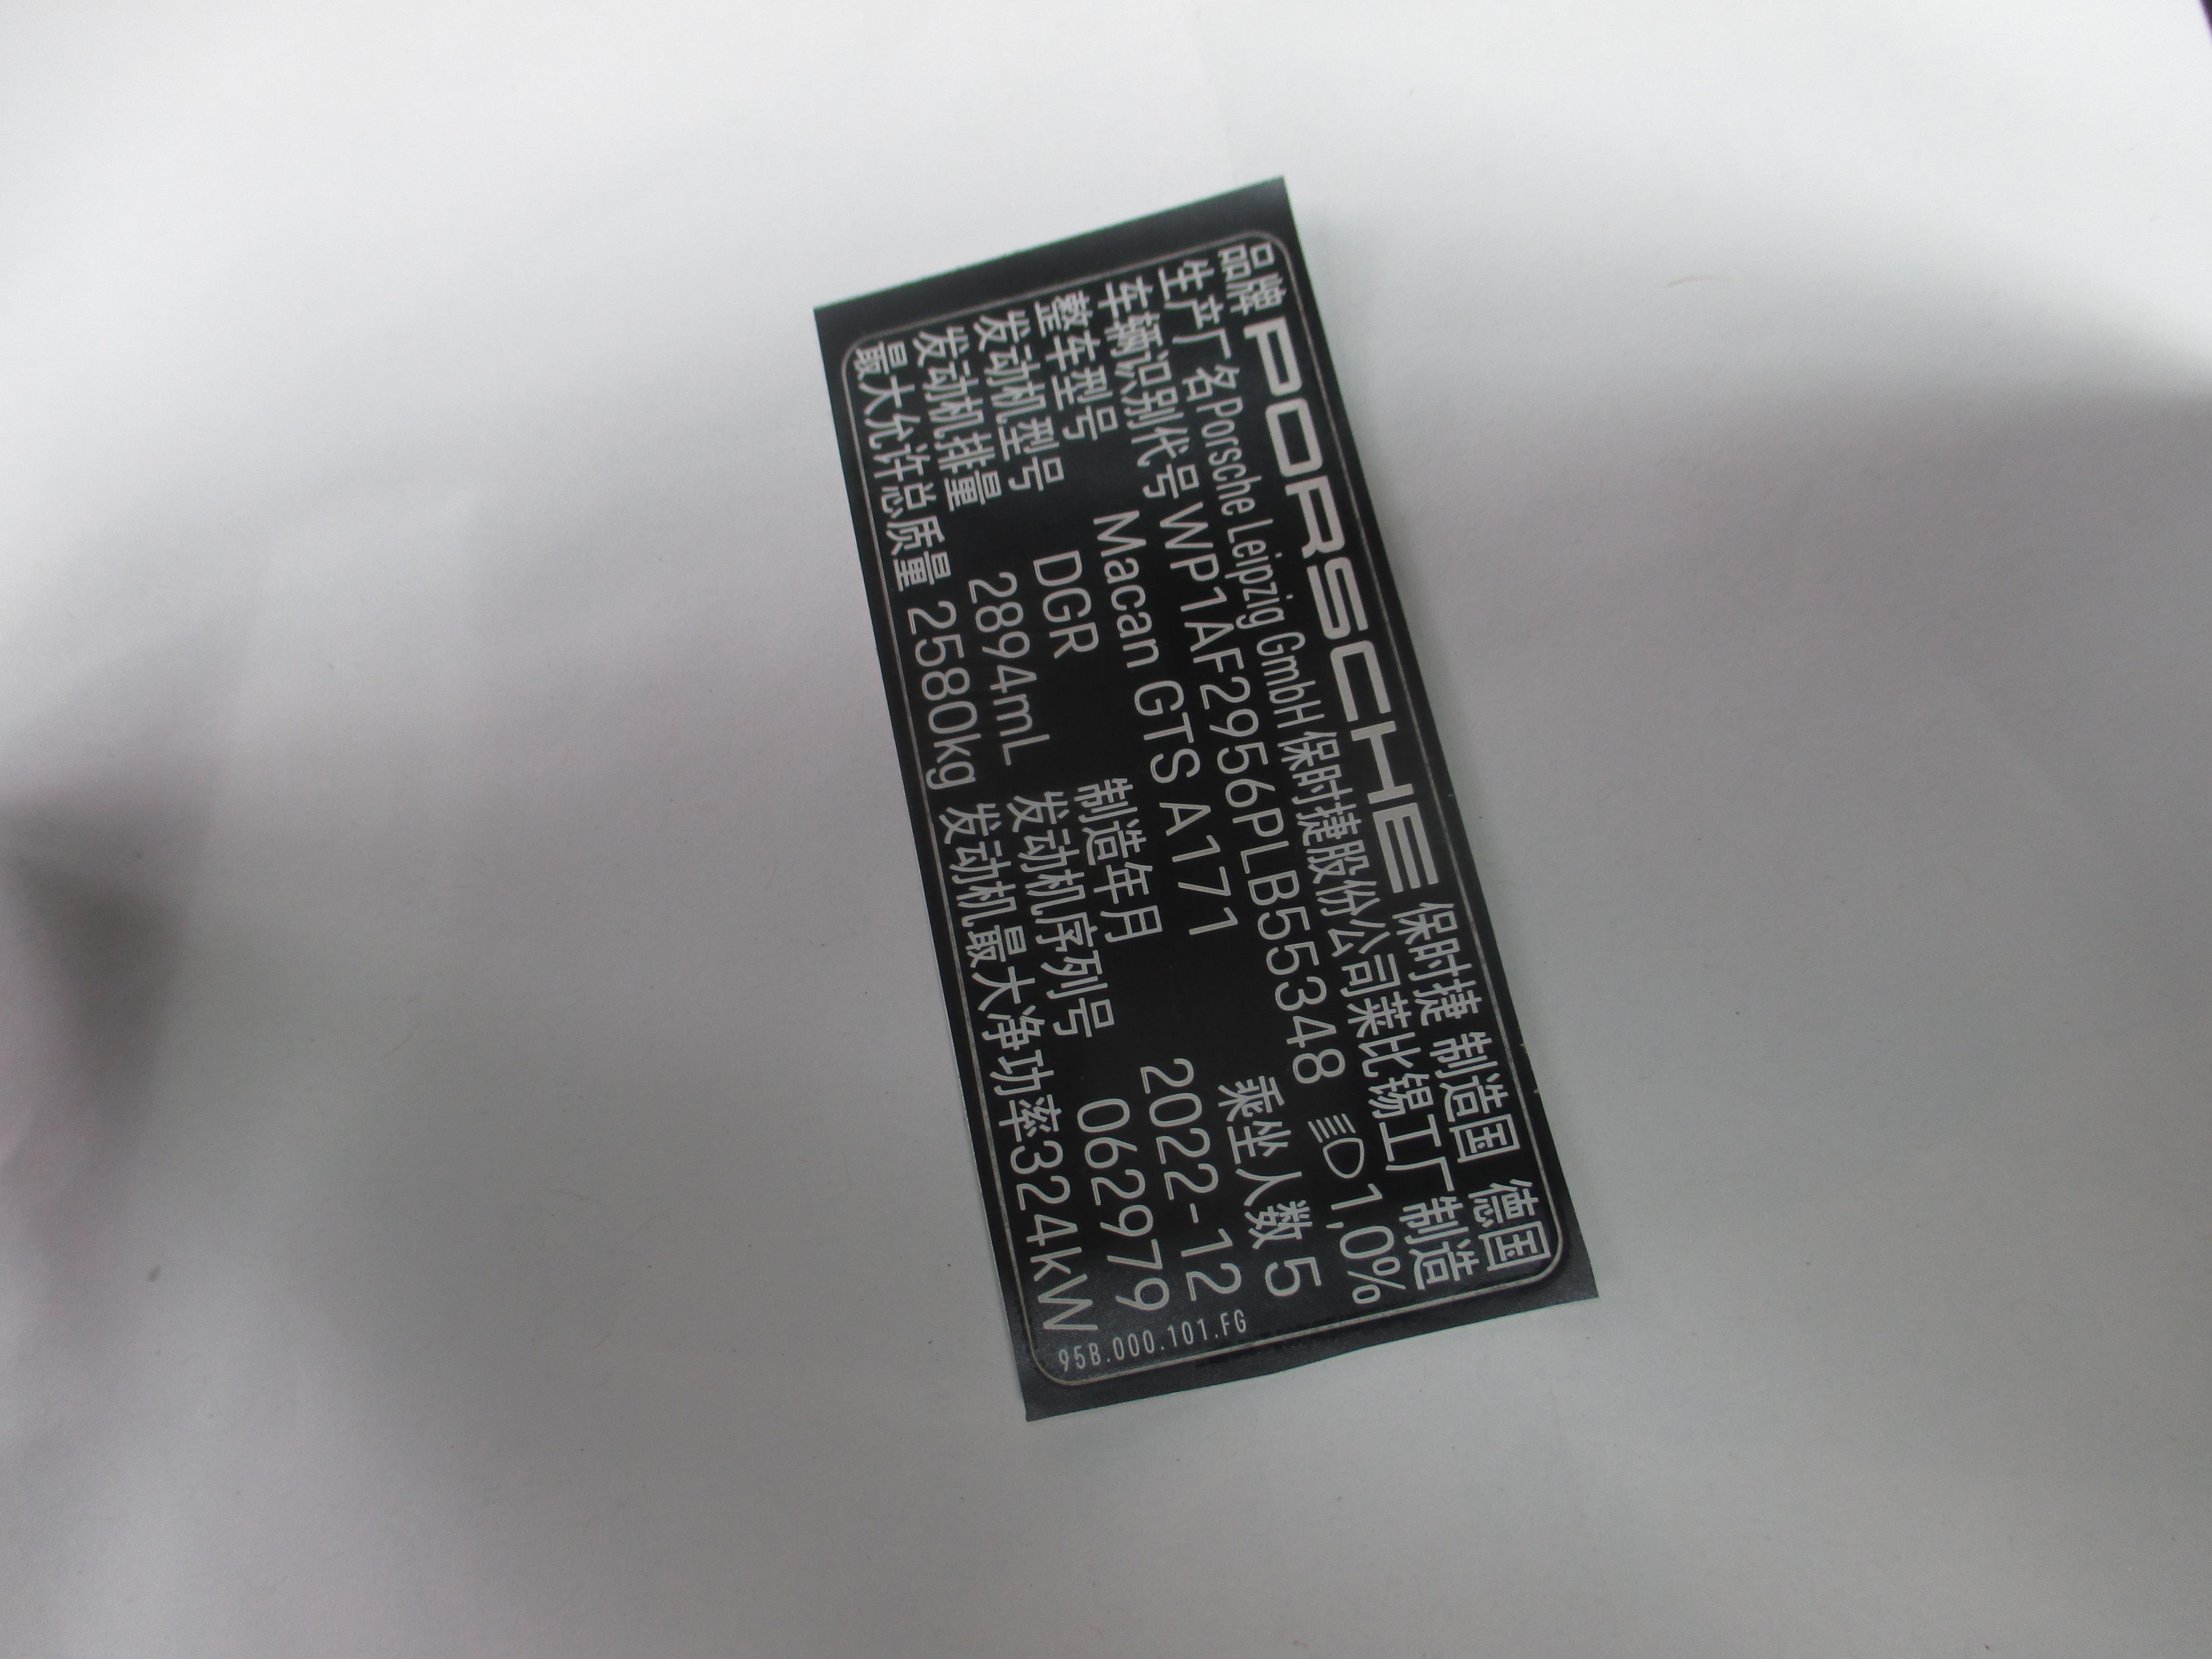Typlabel-China: (846, 239, 1557, 1380)
